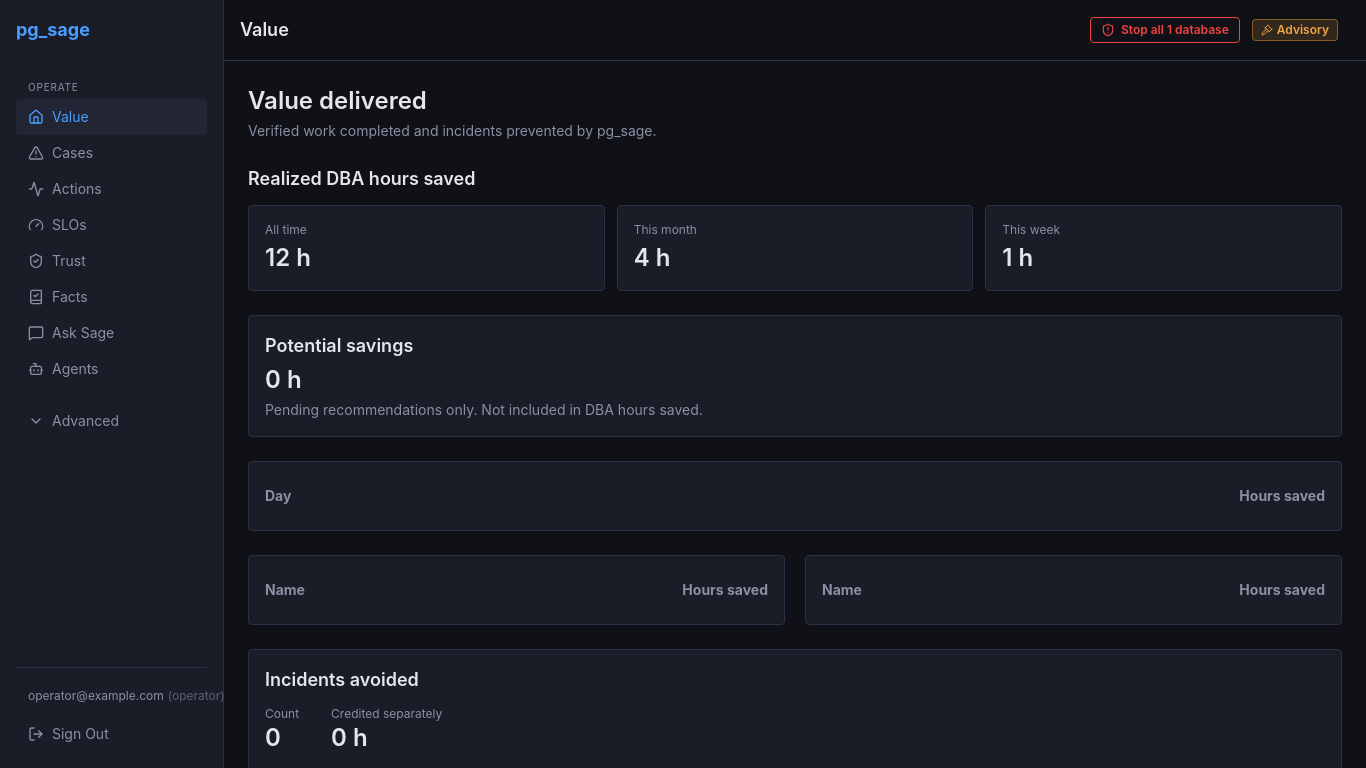
Test: agent-native Value routing and navigation › makes Value primary and keeps telemetry behind collapsed Advanced nav
expect the link "findings explorer" is not shown: met
expect the link "action history" is not shown: met
Click the button "Advanced" at {"x": 112, "y": 421}, box [16, 403, 207, 439]
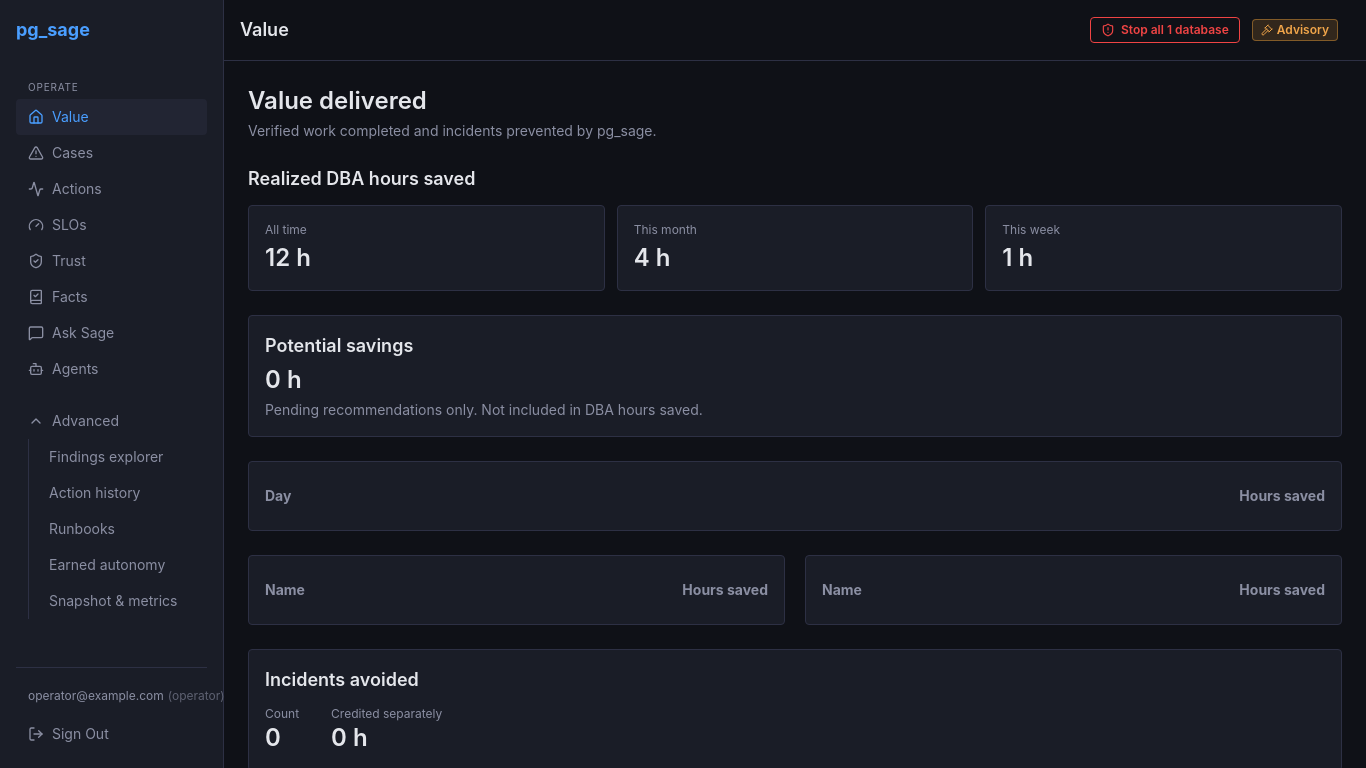
expect the button "Advanced" is expanded: met, box [16, 403, 207, 439]
expect the link "Findings explorer" is shown: met, box [49, 448, 163, 465]
expect the link "Action history" is shown: met, box [49, 484, 140, 501]
